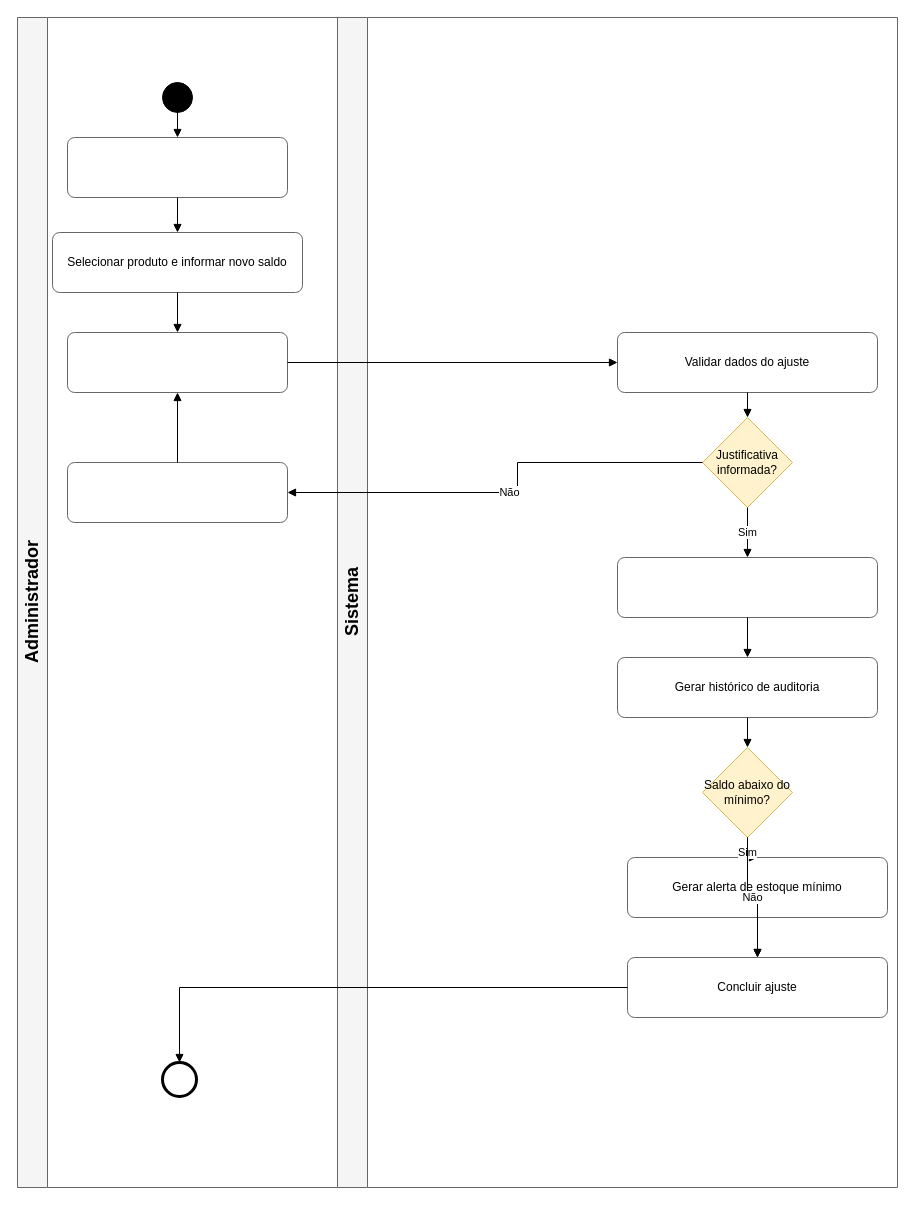
Some shapes in this 915 by 1205 pixel diagram are drawn without their labels. Each missing label, with the box of its shape:
Acessar ajuste de estoque: (66, 136, 288, 198)
Alterar saldo do estoque: (616, 556, 878, 618)
Corrigir / informar justificativa: (66, 462, 288, 522)
Informar justificativa obrigatória: (66, 332, 288, 392)
